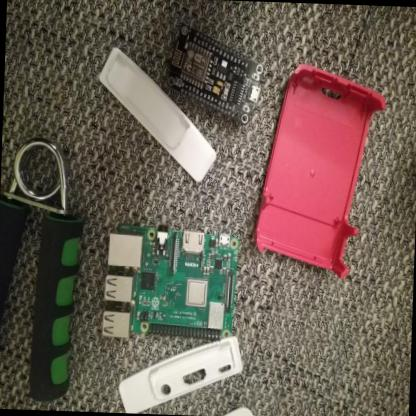Raspberry_Pi_3: (100, 223, 243, 353)
